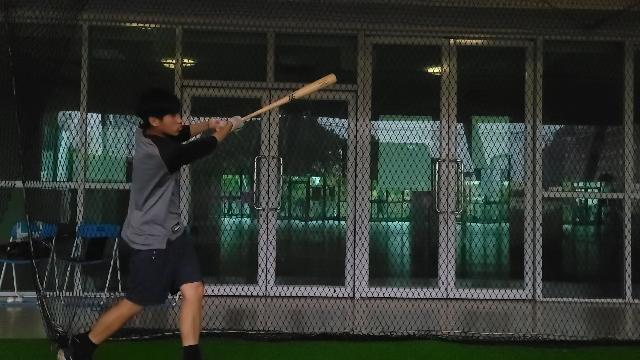baseball bat: (240, 72, 338, 121)
